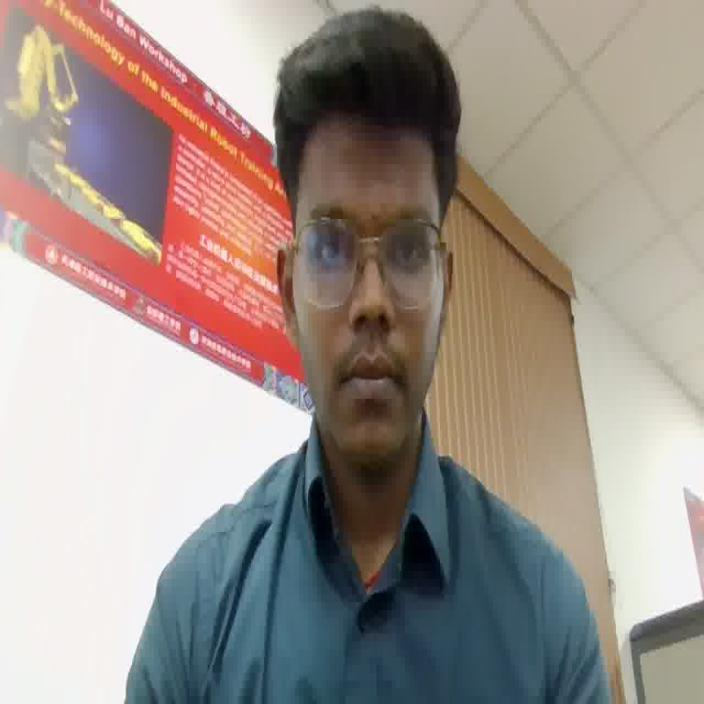know: (126, 8, 615, 703)
